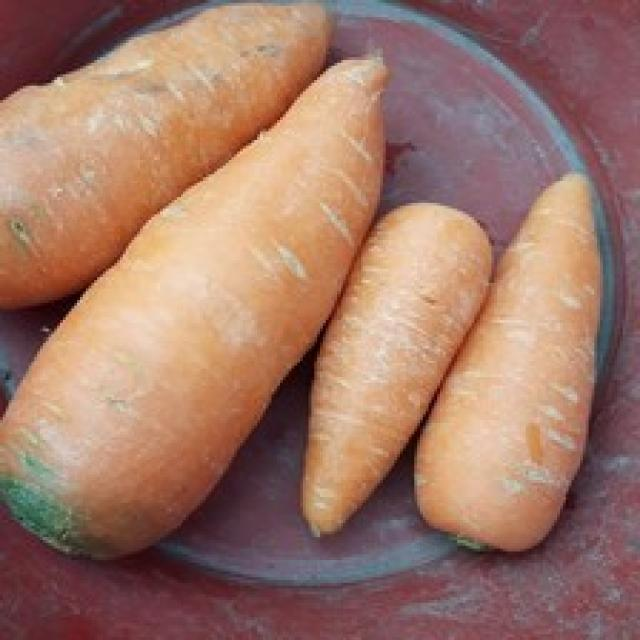Fresh_Carrot: (1, 69, 376, 561), (0, 0, 325, 285), (414, 166, 605, 569), (298, 199, 491, 534)
